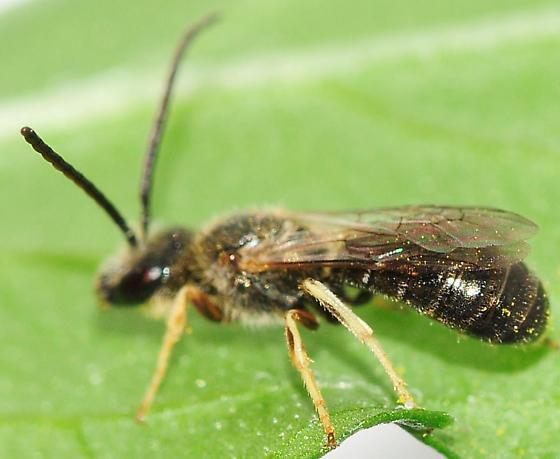Seladonia: (6, 8, 556, 445)
